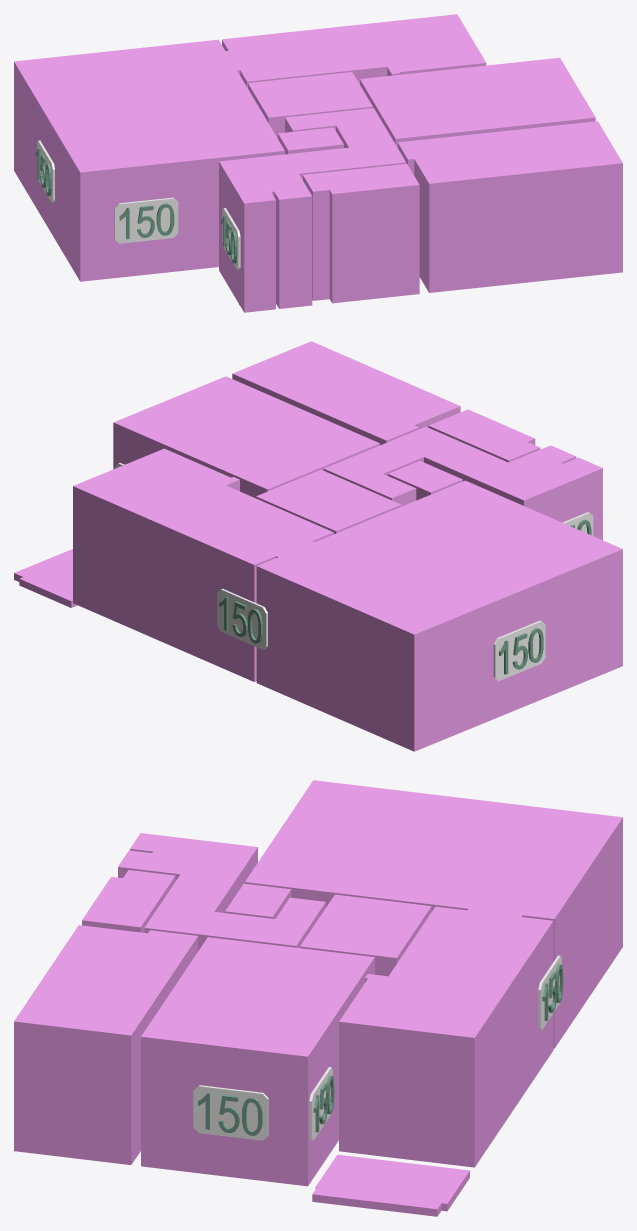
3 renders of one model, top to bottom at view 1: azimuth 30°, elevation 25°; view 2: azimuth 150°, elevation 25°; view 3: azimuth 270°, elevation 25°, orthographic. The views are drawn at different scales.
Visible parts, largest first — view 1: g_1, g_4, g_7, g_5, g_3, g_0, g_2, g_24, g_6, g_28, g_12; view 2: g_1, g_0, g_3, g_7, g_4, g_2, g_5, g_8, g_28, g_20, g_6; view 3: g_1, g_0, g_3, g_4, g_7, g_8, g_2, g_5, g_16, g_6, g_32, g_20.
Boxes of the visible parts, bbox=[...] form: g_1: bbox=[14, 39, 284, 281]; g_4: bbox=[397, 121, 622, 292]; g_7: bbox=[219, 108, 406, 312]; g_5: bbox=[303, 164, 419, 303]; g_3: bbox=[360, 57, 595, 147]; g_0: bbox=[222, 14, 486, 88]; g_2: bbox=[248, 72, 372, 138]; g_24: bbox=[114, 197, 178, 243]; g_6: bbox=[278, 127, 343, 154]; g_28: bbox=[37, 140, 54, 202]; g_12: bbox=[222, 208, 240, 270]; g_1: bbox=[256, 480, 622, 751]; g_0: bbox=[73, 448, 333, 681]; g_3: bbox=[113, 376, 379, 498]; g_7: bbox=[323, 426, 602, 540]; g_4: bbox=[232, 341, 460, 445]; g_2: bbox=[256, 469, 401, 534]; g_5: bbox=[428, 409, 540, 462]; g_8: bbox=[14, 549, 77, 607]; g_28: bbox=[493, 620, 545, 680]; g_20: bbox=[217, 588, 267, 649]; g_6: bbox=[388, 461, 462, 500]; g_1: bbox=[245, 780, 622, 1048]; g_0: bbox=[339, 906, 553, 1167]; g_3: bbox=[141, 937, 374, 1186]; g_4: bbox=[14, 925, 198, 1164]; g_7: bbox=[118, 833, 325, 950]; g_8: bbox=[312, 1154, 469, 1216]; g_2: bbox=[300, 894, 431, 976]; g_5: bbox=[82, 870, 175, 932]; g_16: bbox=[193, 1085, 268, 1140]; g_6: bbox=[225, 883, 291, 918]; g_32: bbox=[309, 1067, 332, 1140]; g_20: bbox=[538, 955, 561, 1029].
Bounding box in the file's own units: 12.73 × 2.74 × 10.96.
